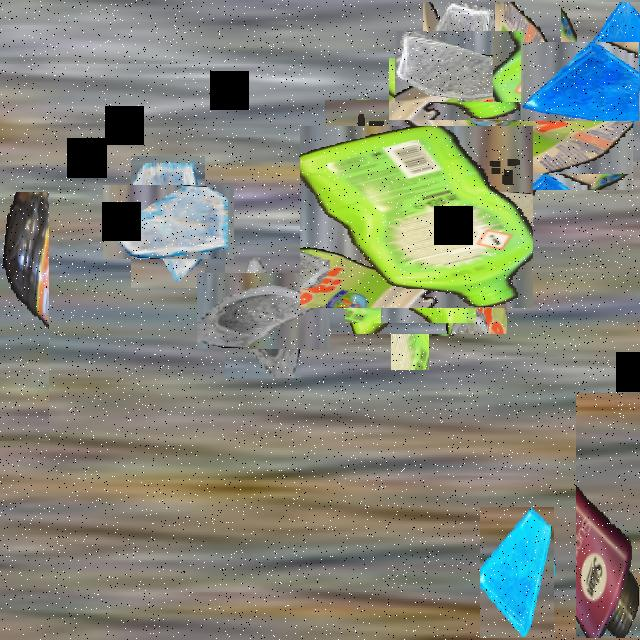glass: (540, 22, 640, 141), (210, 258, 316, 364), (116, 171, 220, 273), (409, 16, 509, 116), (480, 507, 554, 638)
plastic: (312, 113, 520, 321), (417, 30, 605, 219), (576, 393, 640, 638), (0, 192, 49, 441)
wood: (368, 262, 452, 346)
